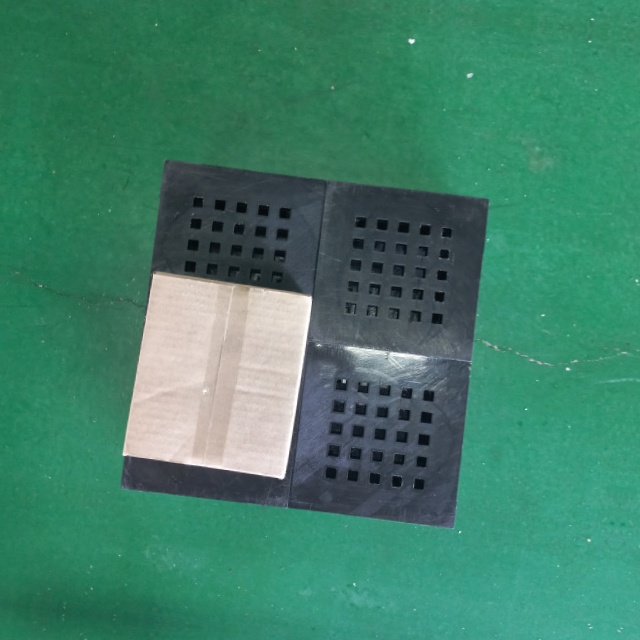box: (120, 270, 314, 483)
pallet: (109, 142, 514, 547)
